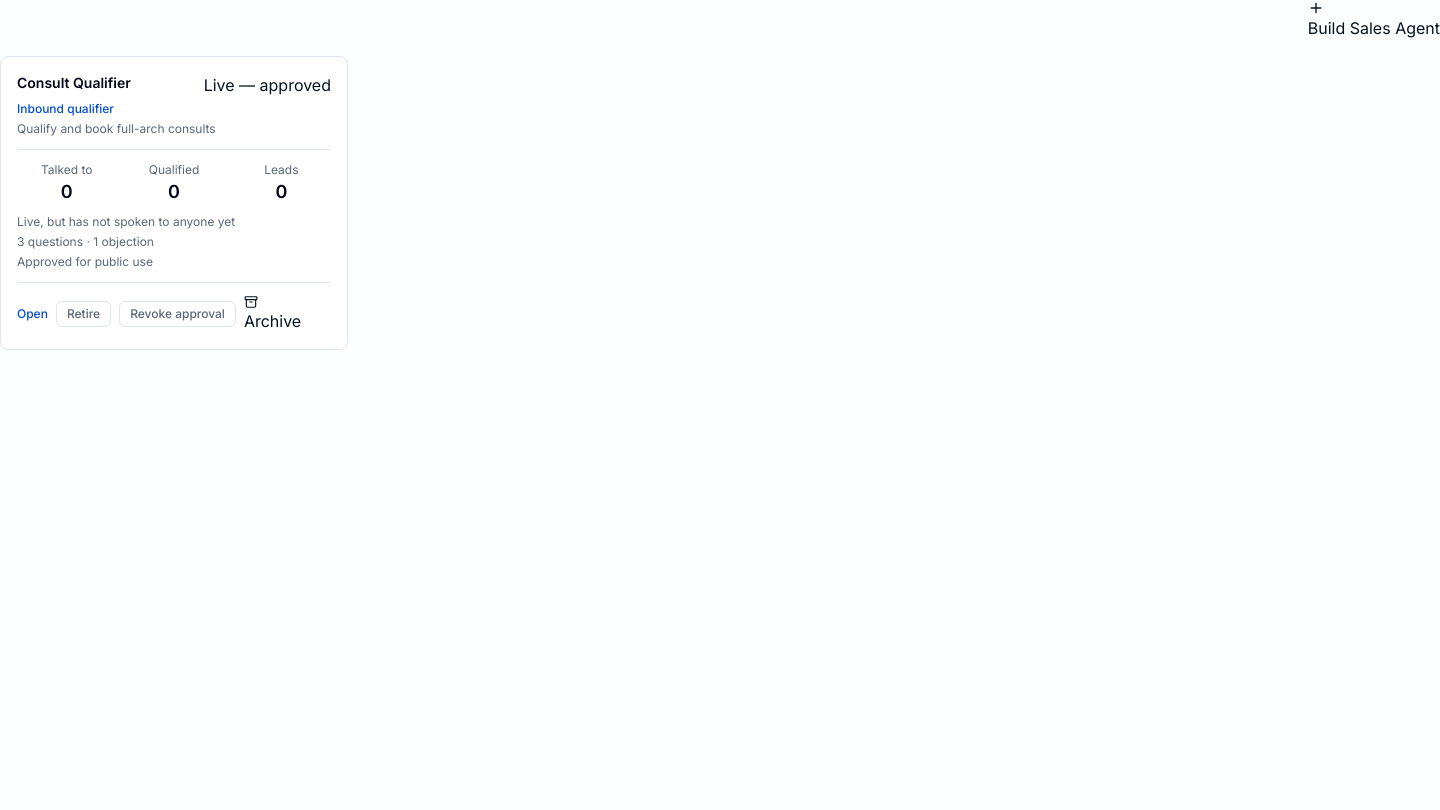
Scenario: briefing a sales agent › puts the ask into the purpose field
Click the button "Build Sales Agent". click: (1374, 20)
box: top-left (1308, 0), bottom-right (1439, 40)
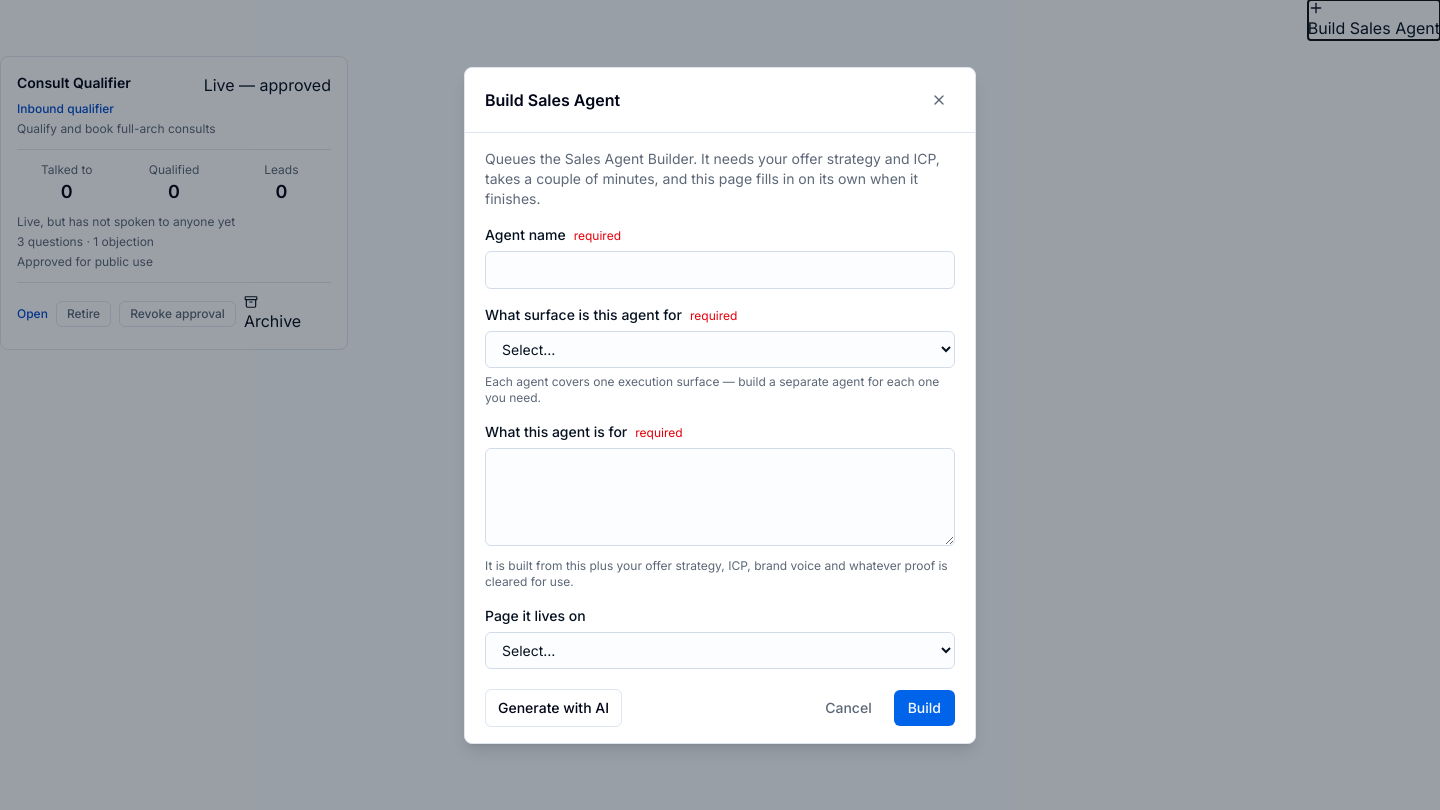
Click the button "Generate with AI". click: (554, 708)
box: top-left (485, 688), bottom-right (622, 726)
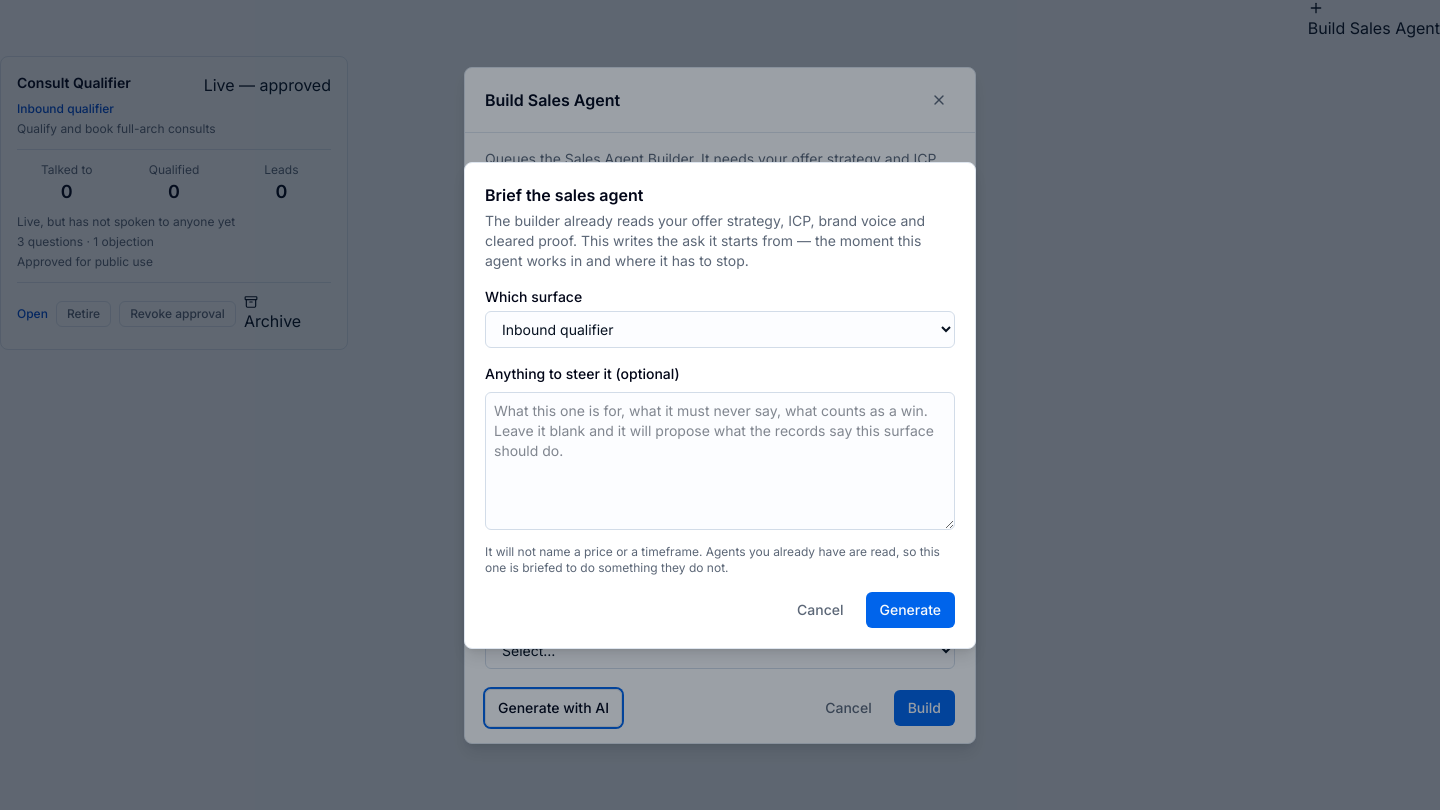
Click the button "Generate". click: (910, 610)
box: top-left (866, 592), bottom-right (955, 628)
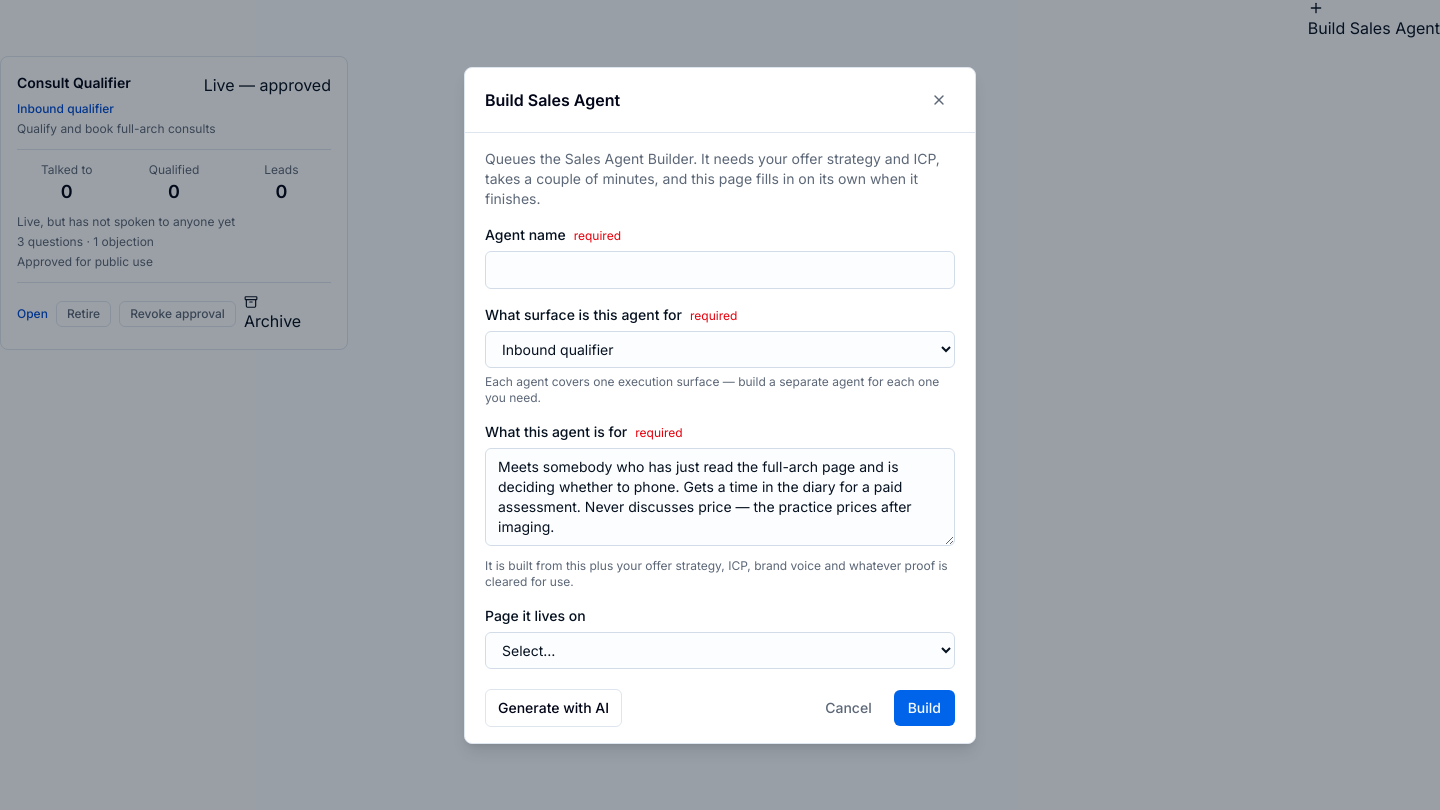
Expected: the text box showing "Meets somebody who has just read the full-arch page and is deciding whether to phone. Gets a time in the diary for a pai" is shown, top-left (485, 448), bottom-right (955, 546)
